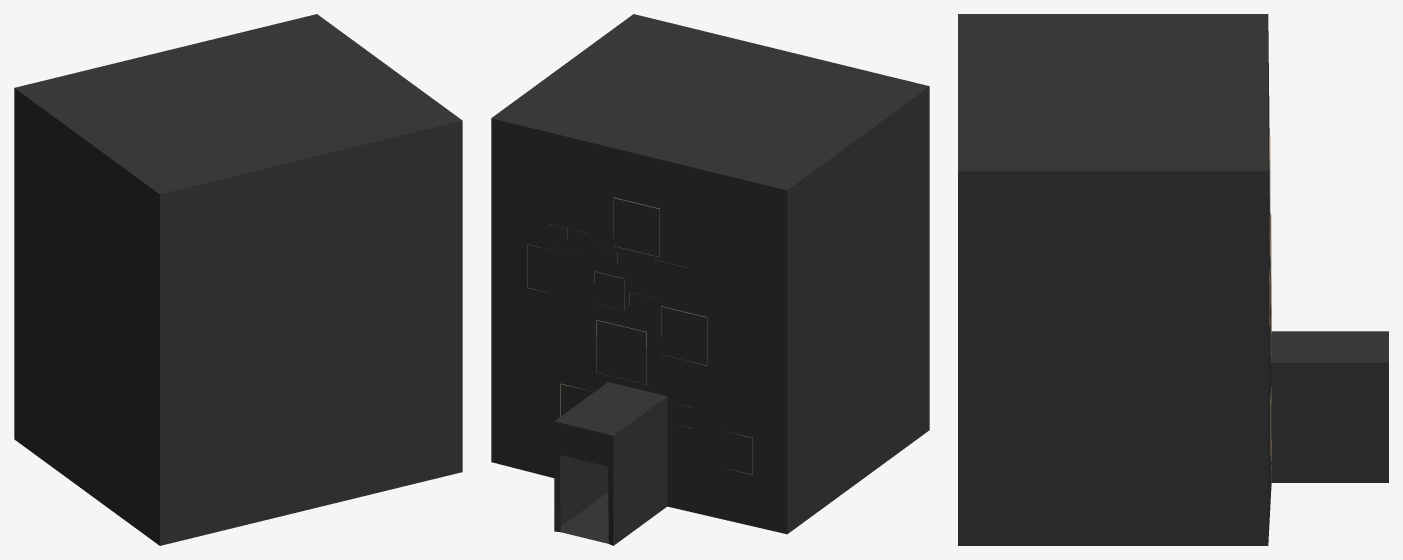
Rendered from julije_room.fbx.
The picture shows the model from 3 angles, left to right: view 1: azimuth 30°, elevation 25°; view 2: azimuth 150°, elevation 25°; view 3: azimuth 270°, elevation 25°; orthographic projection. The views are drawn at different scales.
Visible parts, largest first — view 1: Pic.002; view 2: Pic.002; view 3: Pic.002.
Part boxes in pixels (box(x1,y1,x2,y2)): Pic.002: box(14, 14, 462, 545); Pic.002: box(491, 14, 929, 545); Pic.002: box(958, 14, 1388, 545).
Size of the model in its own units: 1414 by 1575 by 1636.
